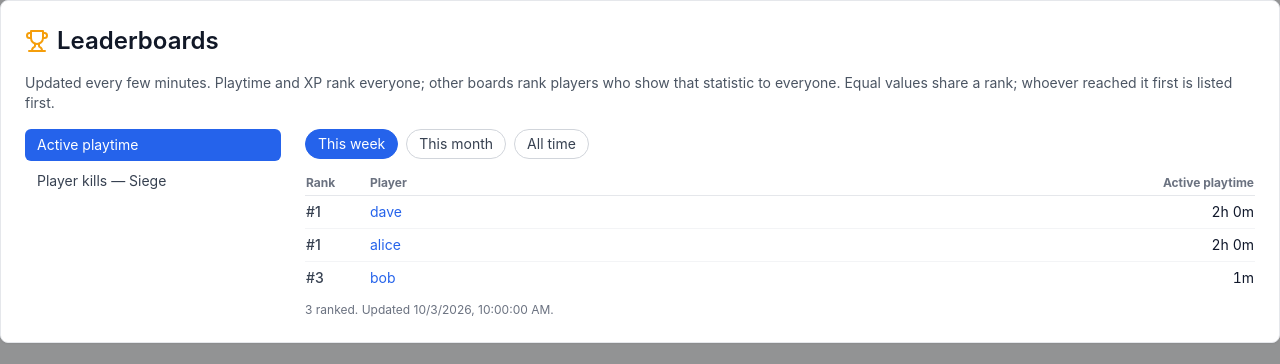
LeaderboardsPage › switches period and shows the viewer's own rank
Expected: the link "dave" is shown, [370,203,402,220]
Click the tab "All time": (552, 144) [514,129,589,159]
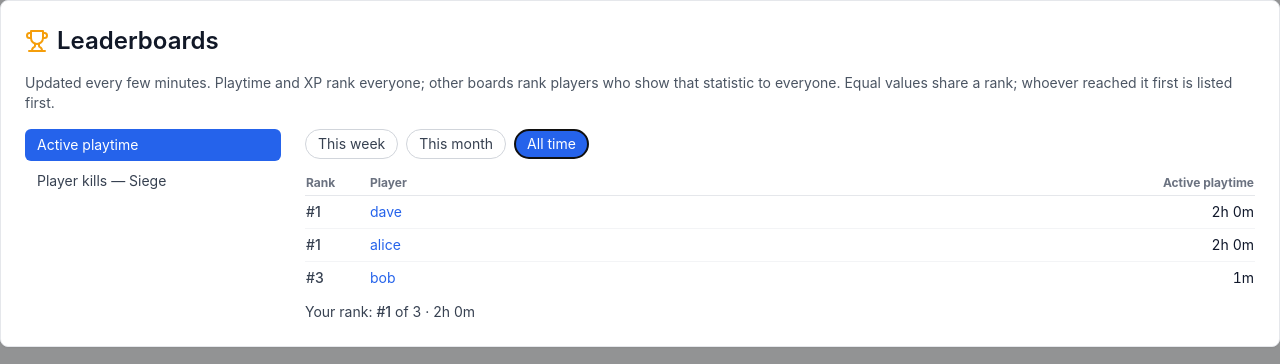
Now the text "Your rank: #1 of 3 · 2h 0m" is shown, box [305,303,475,320]
